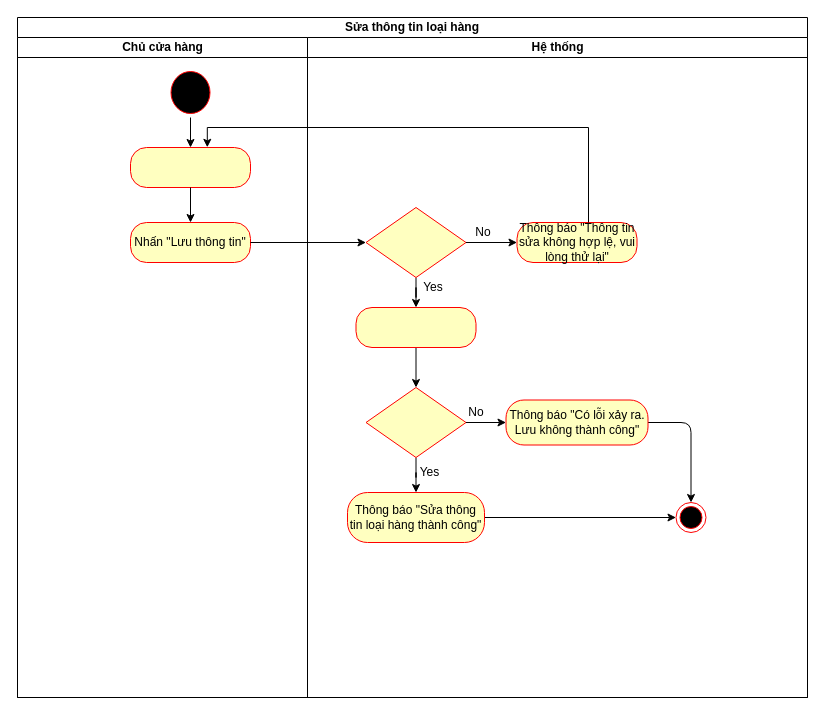
Image size: 825x715. Some labels were removed from this diagram. Here are the shapes that lost their labels. From the top down, the centre of each, then its label:
point 190,167: Chỉnh sửa thông tin loại hàng
point 415,242: Hợp lệ ?
point 415,327: Lưu thông tin loại hàng
point 415,422: Thành công?
